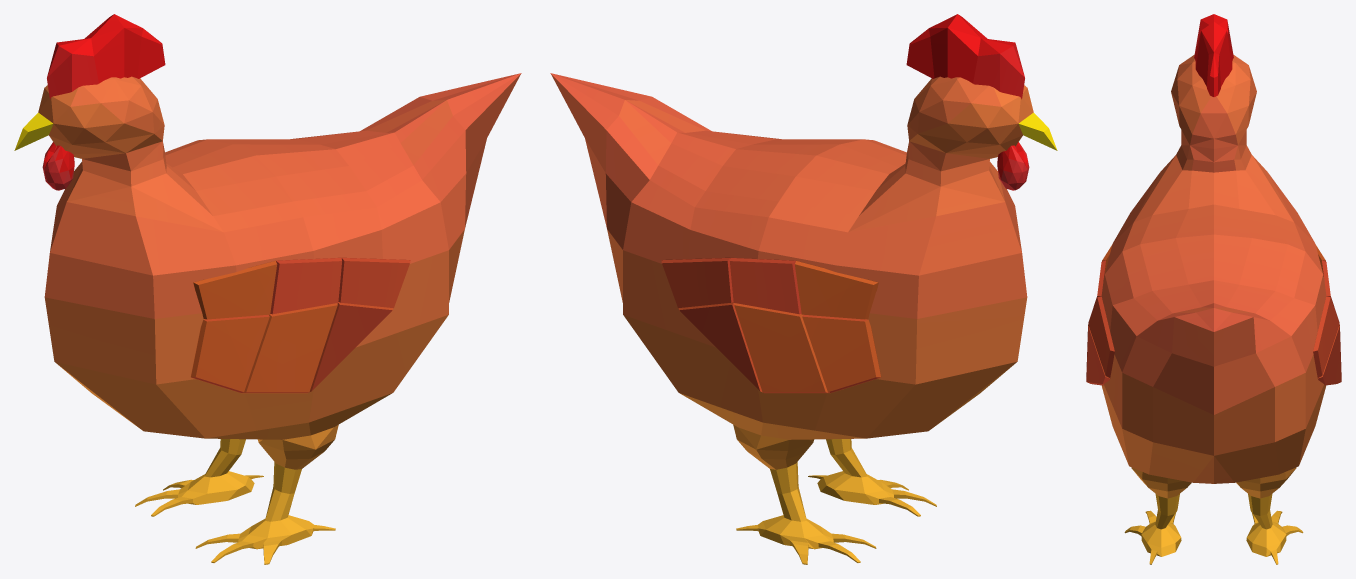
File: gallina.glb
The picture shows the model from 3 angles, left to right: view 1: azimuth 30°, elevation 25°; view 2: azimuth 150°, elevation 25°; view 3: azimuth 270°, elevation 25°; orthographic projection. The views are drawn at different scales.
Visible parts, largest first — view 1: Cylinder; view 2: Cylinder; view 3: Cylinder.
Boxes of the visible parts, left/top/right/bottom form: Cylinder: left=14, top=14, right=521, bottom=564; Cylinder: left=550, top=14, right=1057, bottom=564; Cylinder: left=1086, top=14, right=1341, bottom=564.
Size of the model in its own units: 5.83 by 5.91 by 2.93.
1 material, 1 textured.
